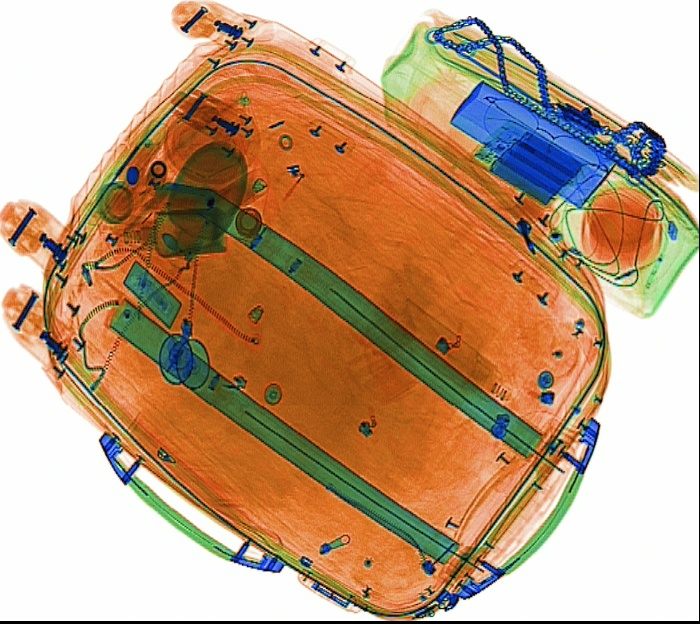powerbank: (460, 117, 591, 210)
